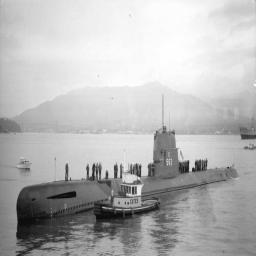submarine: (18, 92, 242, 225)
